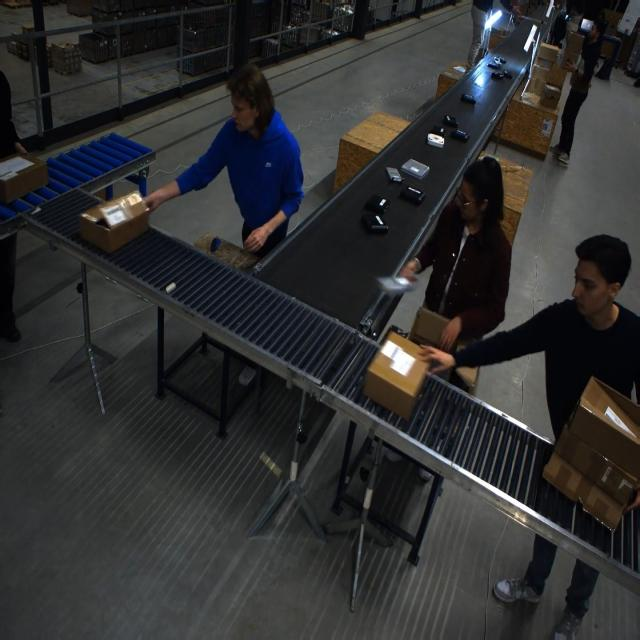box: (541, 378, 638, 529), (364, 331, 428, 420), (79, 192, 151, 253), (0, 149, 48, 203), (410, 305, 454, 350), (559, 28, 585, 71), (485, 28, 507, 51), (536, 42, 559, 62), (528, 63, 550, 83)
product: (400, 159, 430, 180), (361, 214, 388, 235), (399, 185, 426, 204), (364, 194, 389, 212), (385, 167, 403, 183), (426, 133, 444, 148), (450, 129, 469, 142), (429, 125, 446, 139), (442, 115, 458, 127), (460, 93, 476, 104), (491, 70, 505, 79), (492, 56, 506, 65), (487, 62, 502, 70), (502, 70, 512, 78)
